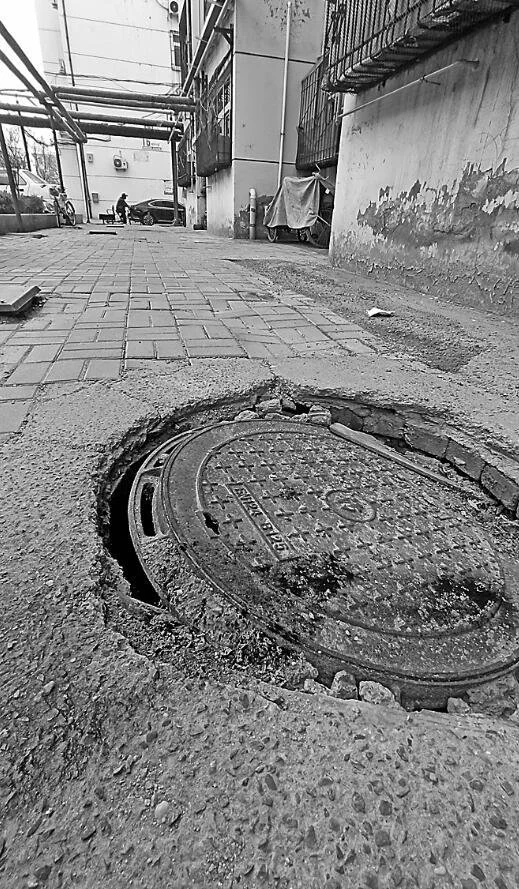circle: (69, 358, 518, 817)
